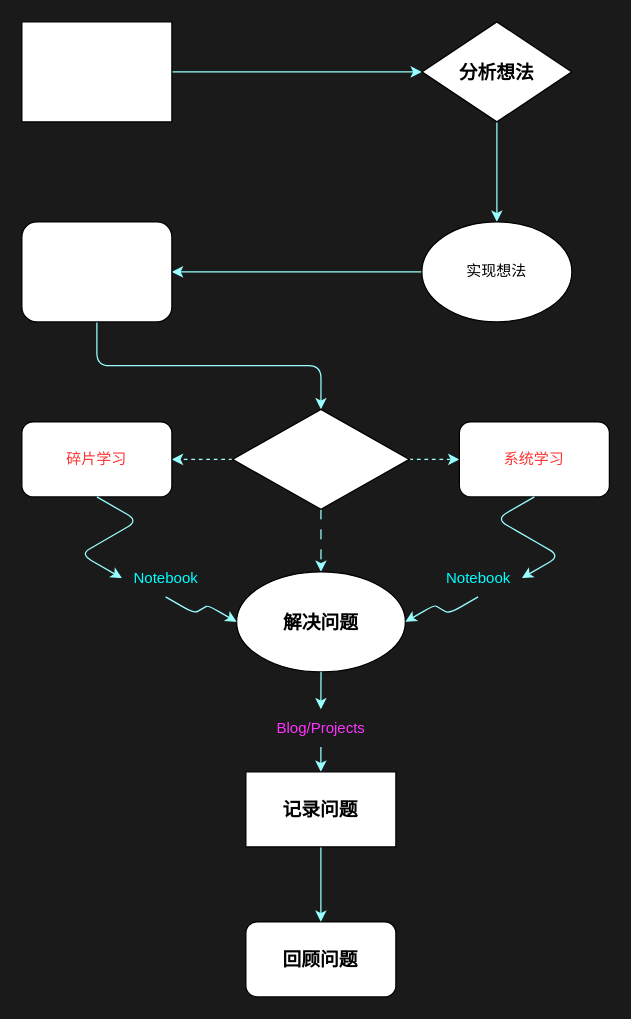
Image size: 631x1019. Some labels were removed from this diagram. The shapes that lost their labels are listed below. From the top down, each one's box as (x1, y1, x2, y2) in pixels, then its label:
(21, 21, 172, 122): 提出想法
(21, 221, 172, 322): 发现问题
(231, 408, 409, 509): 分析问题
